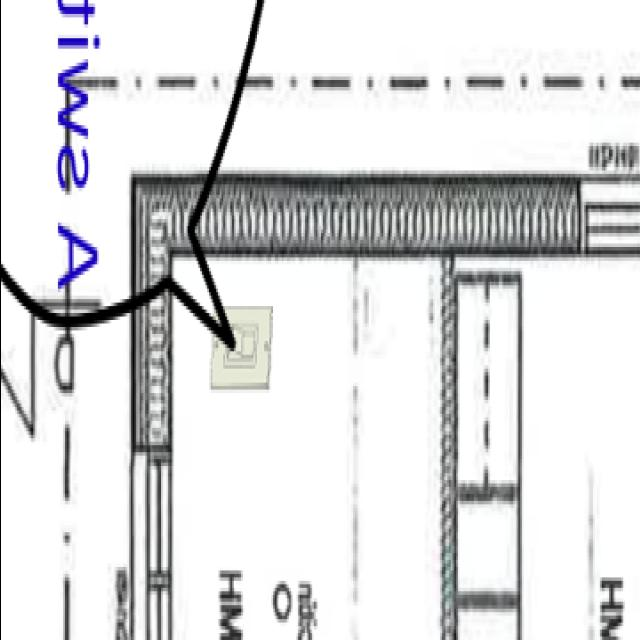switch: (207, 298, 277, 400)
wall: (117, 153, 589, 268), (118, 155, 178, 467)
